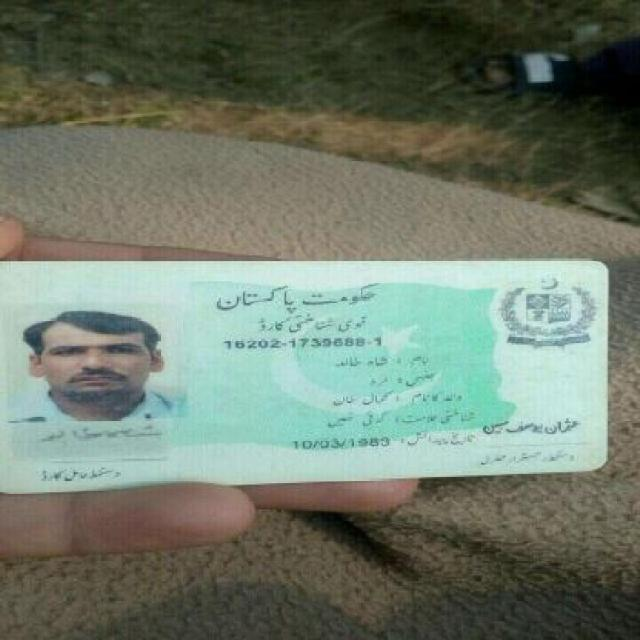Front: (9, 245, 614, 492)
